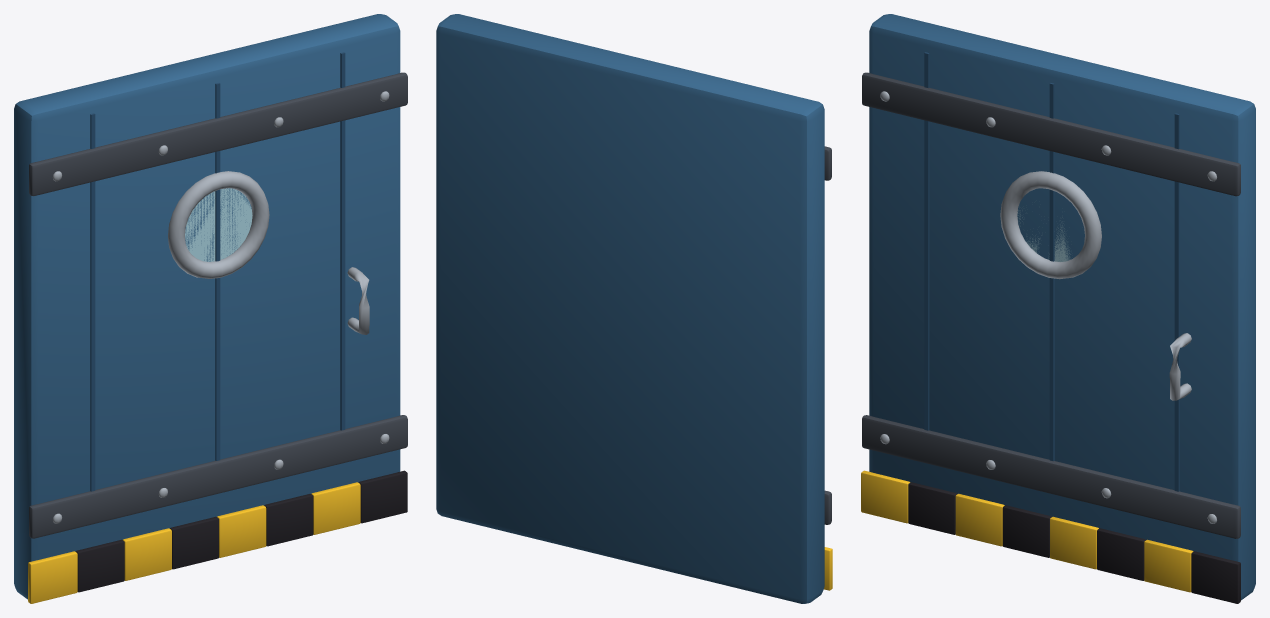
The model's file is WorkshopDoor.fbx.
3 views of the same model, side by side, from view 1: azimuth 30°, elevation 25°; view 2: azimuth 150°, elevation 25°; view 3: azimuth 330°, elevation 25° (orthographic).
Visible parts, largest first — view 1: Prop_WorkshopDoor; view 2: Prop_WorkshopDoor; view 3: Prop_WorkshopDoor.
Boxes of the visible parts, bbox=[...] form: Prop_WorkshopDoor: bbox=[14, 14, 407, 603]; Prop_WorkshopDoor: bbox=[436, 14, 832, 603]; Prop_WorkshopDoor: bbox=[861, 14, 1255, 603].
Bounding box in the file's own units: 1.96 × 2.44 × 0.315.
